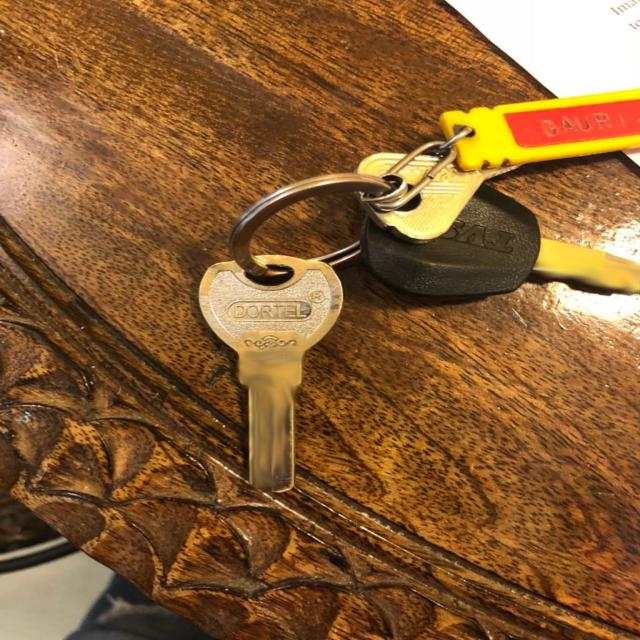Frontdoor keys: (192, 253, 348, 500)
